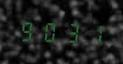nine: (18, 18, 38, 43)
one: (81, 20, 101, 45)
three: (60, 19, 80, 44)
zero: (39, 19, 59, 43)
